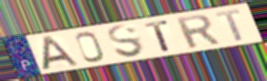0: (75, 30, 106, 64)
A: (42, 35, 80, 72)
R: (173, 13, 223, 50)
S: (106, 23, 147, 59)
T: (213, 8, 246, 43), (143, 19, 172, 53)
